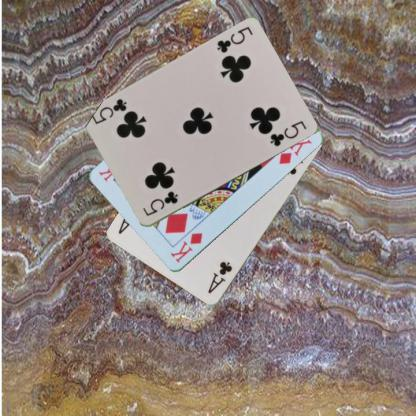5c: (214, 24, 254, 55), (140, 188, 180, 218)
Ac: (205, 259, 234, 295)
Kd: (168, 230, 204, 265)
